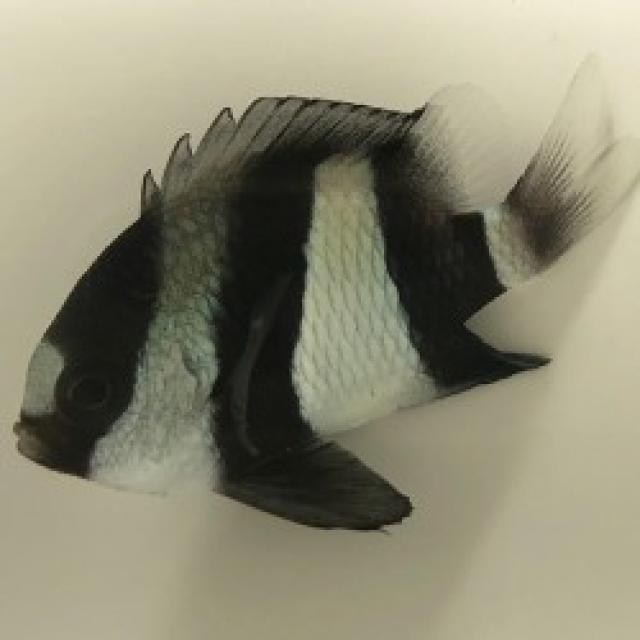ThreeStripedDamselfish: (0, 59, 635, 535)
